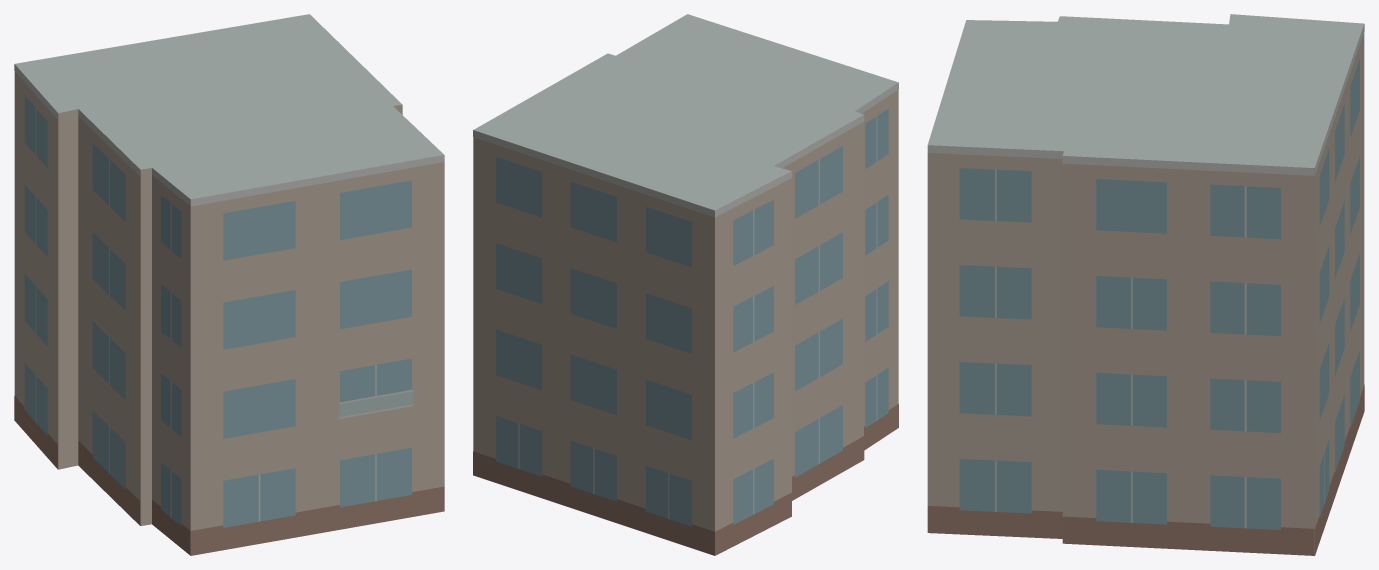
File: survey-upis-32586028.glb
3 renders of one model, left to right at view 1: azimuth 30°, elevation 25°; view 2: azimuth 150°, elevation 25°; view 3: azimuth 270°, elevation 25°, orthographic. The views are drawn at different scales.
Parts seen in each view (by area): view 1: survey-upis-32586028.tmp; view 2: survey-upis-32586028.tmp; view 3: survey-upis-32586028.tmp.
Boxes of the visible parts, x1,y1,x2,y2 form: survey-upis-32586028.tmp: [14, 14, 444, 555]; survey-upis-32586028.tmp: [473, 14, 898, 555]; survey-upis-32586028.tmp: [927, 14, 1364, 555].
Bounding box in the file's own units: 10.41 × 12.2 × 12.47.
